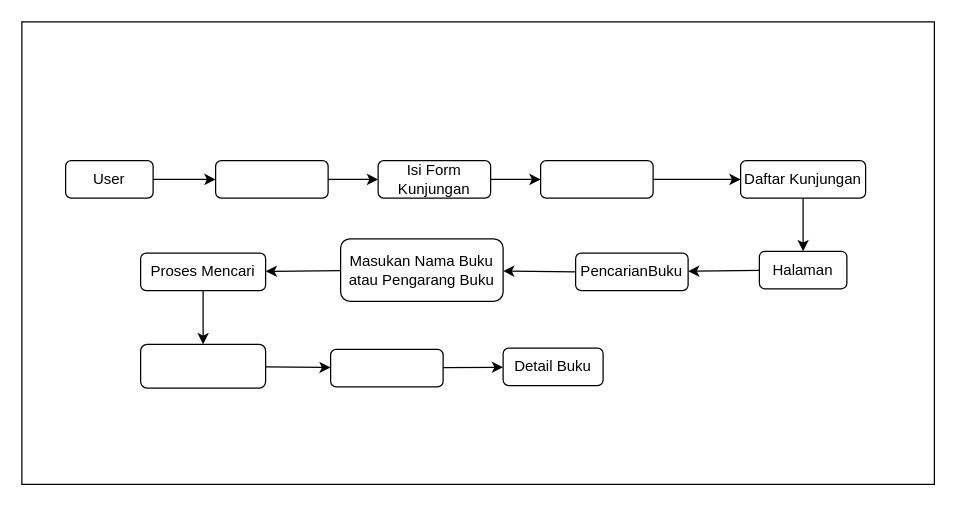
This 956x506 diagram has some shape labels left out. The shapes that lost their labels are listed below. From the top down, each one's box as (x1, y1, x2, y2) in pixels, then its label:
(214, 159, 328, 198): Datang Ke Perpus
(539, 159, 653, 198): Kirim
(139, 343, 266, 388): Pencarian Muncul
(329, 348, 443, 387): Rincian Buku
